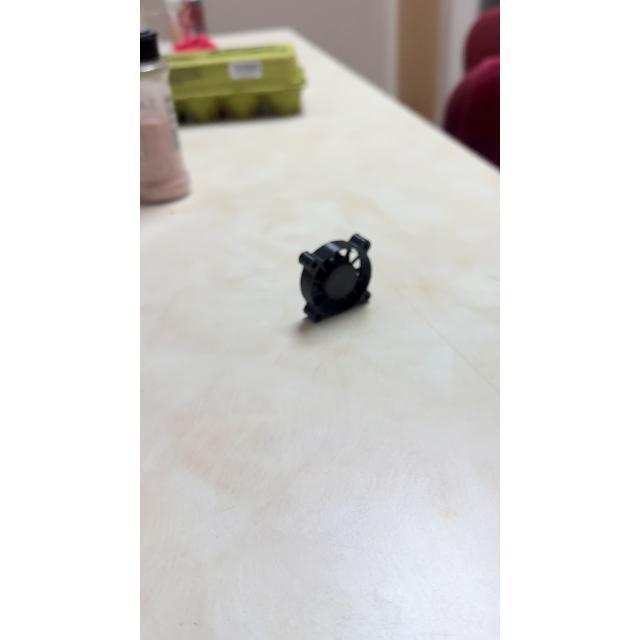Pieza4: (264, 218, 396, 336)
